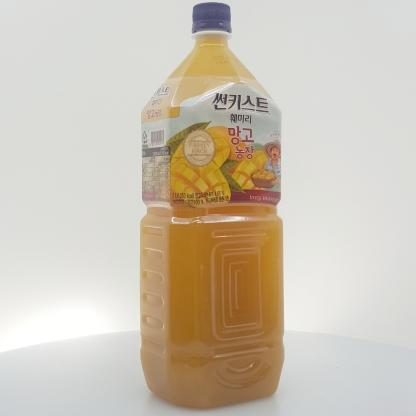---------2L: (140, 2, 284, 408)
